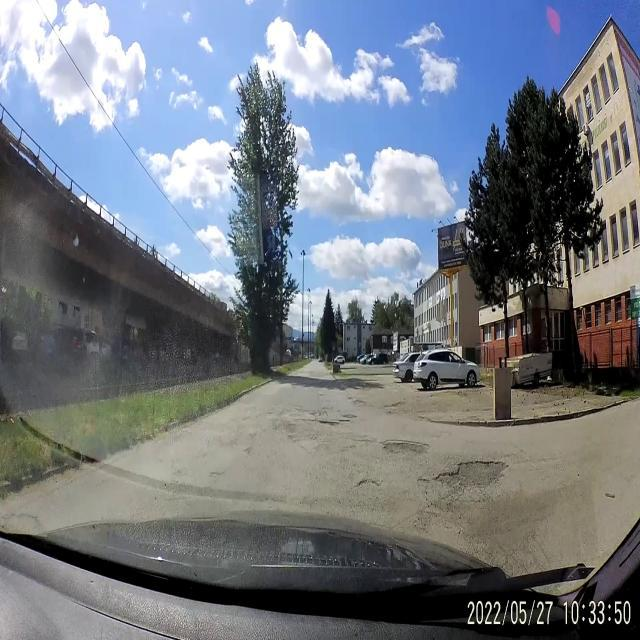Pothole: (428, 460, 509, 492), (380, 436, 430, 459), (356, 471, 378, 496), (319, 418, 352, 434)
